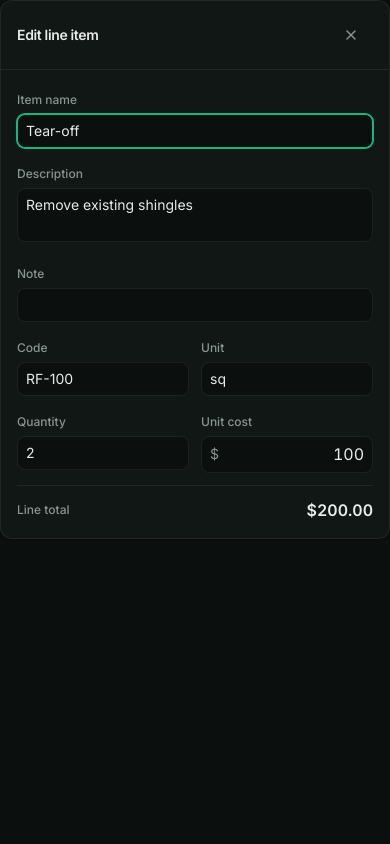
Test: LineItemEditorPanel › shows a live line total that tracks quantity and unit cost while typing
expect the text with test id "editor-line-total" reads "$200.00": met, box [306, 500, 373, 520]
Replace the text in the field with test id "editor-field-quantity" with "3" at {"x": 103, "y": 453}, box [17, 436, 189, 470]
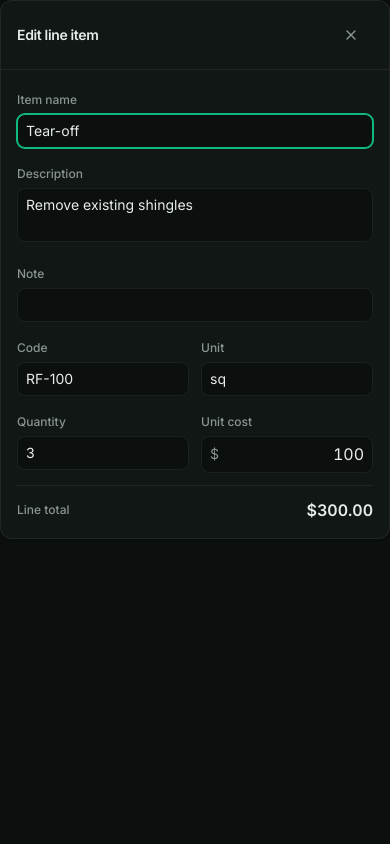
expect the text with test id "editor-line-total" reads "$300.00": met, box [306, 500, 373, 520]
Replace the text in the field labelled "Unit cost $" with "50" at {"x": 292, "y": 454}, box [221, 443, 364, 466]
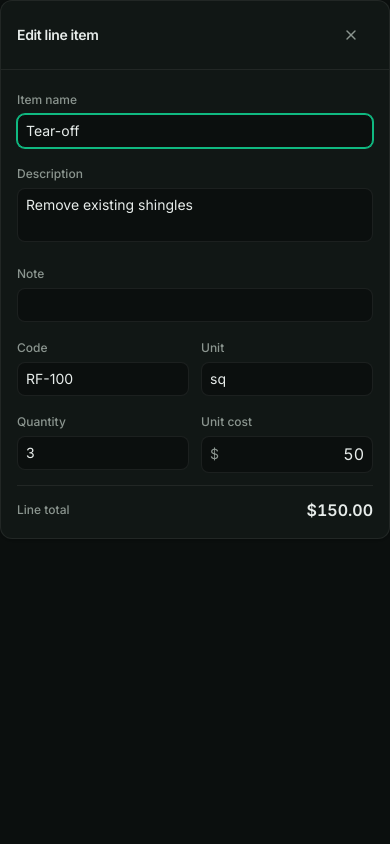
expect the text with test id "editor-line-total" reads "$150.00": met, box [306, 500, 373, 520]
